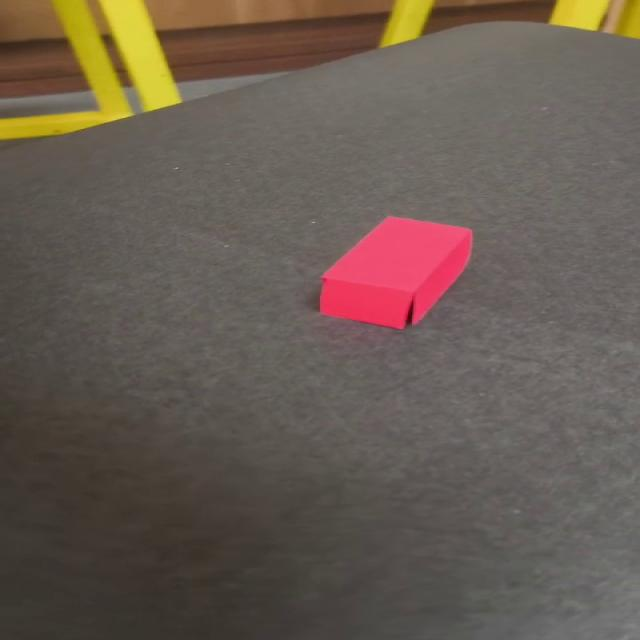red block: (317, 215, 473, 329)
